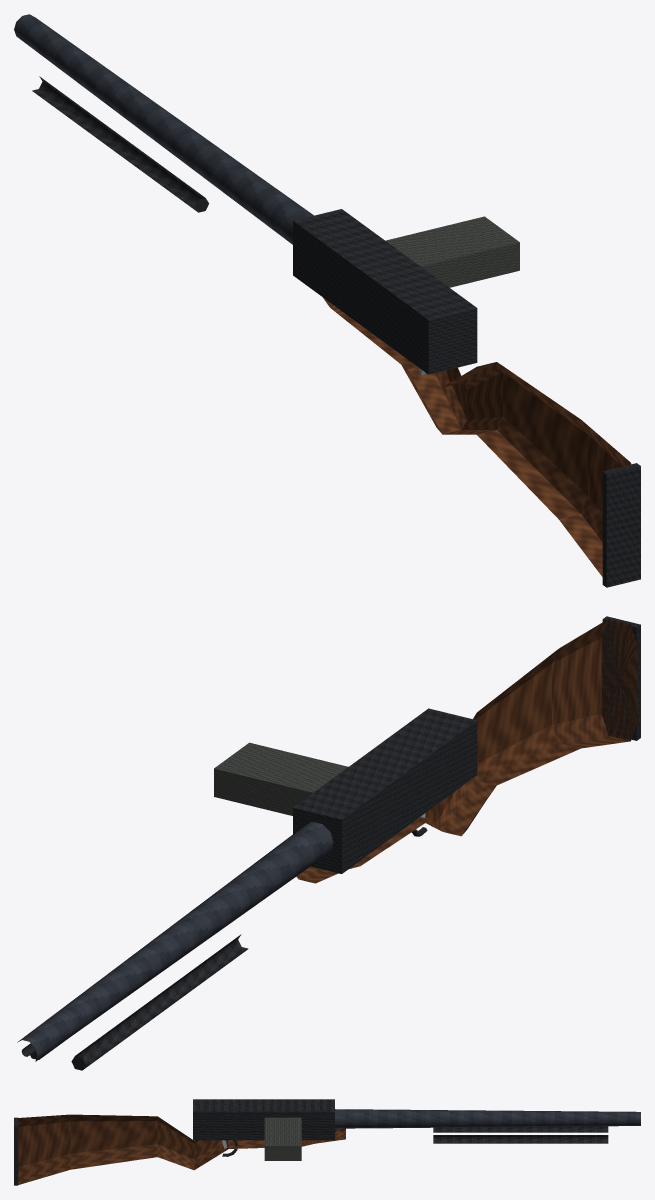
Rendered from breda_m30.glb.
3 views of the same model, one above another, from view 1: azimuth 30°, elevation 25°; view 2: azimuth 150°, elevation 25°; view 3: azimuth 270°, elevation 25° (orthographic). The views are drawn at different scales.
Visible parts, largest first — view 1: WeaponMesh; view 2: WeaponMesh; view 3: WeaponMesh.
Part boxes in pixels (x1,y1,x2,y2): WeaponMesh: (14,14,640,587); WeaponMesh: (17,616,640,1070); WeaponMesh: (14,1099,640,1185).
Size of the model in its own units: 0.182 by 0.155 by 1.15.
5 materials, 5 textured.
